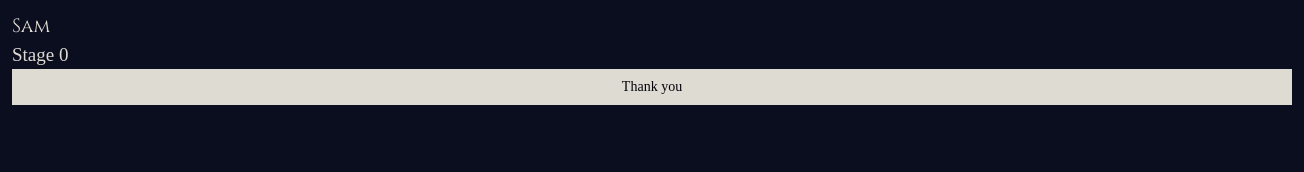
keeps topics hidden and actions advance without remounting on world updates
Click the button "Thank you" at (652, 87), box [12, 69, 1292, 105]
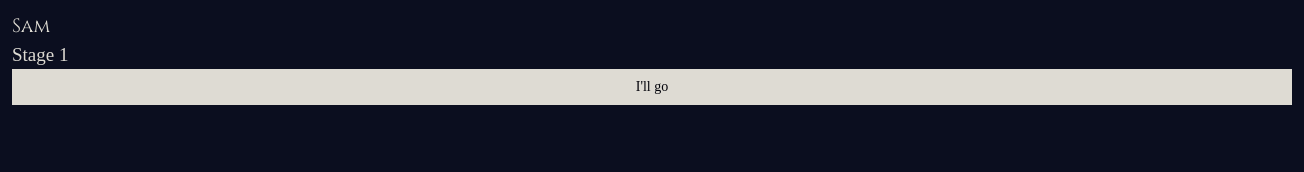
Click the button "I'll go" at (652, 87), box [12, 69, 1292, 105]
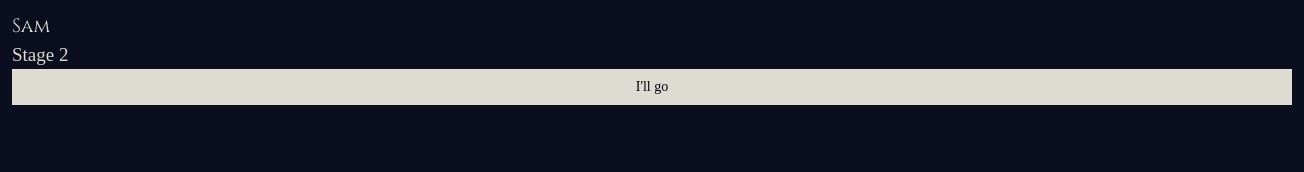
Now the text "Stage 2" is shown, box [12, 44, 68, 64]
